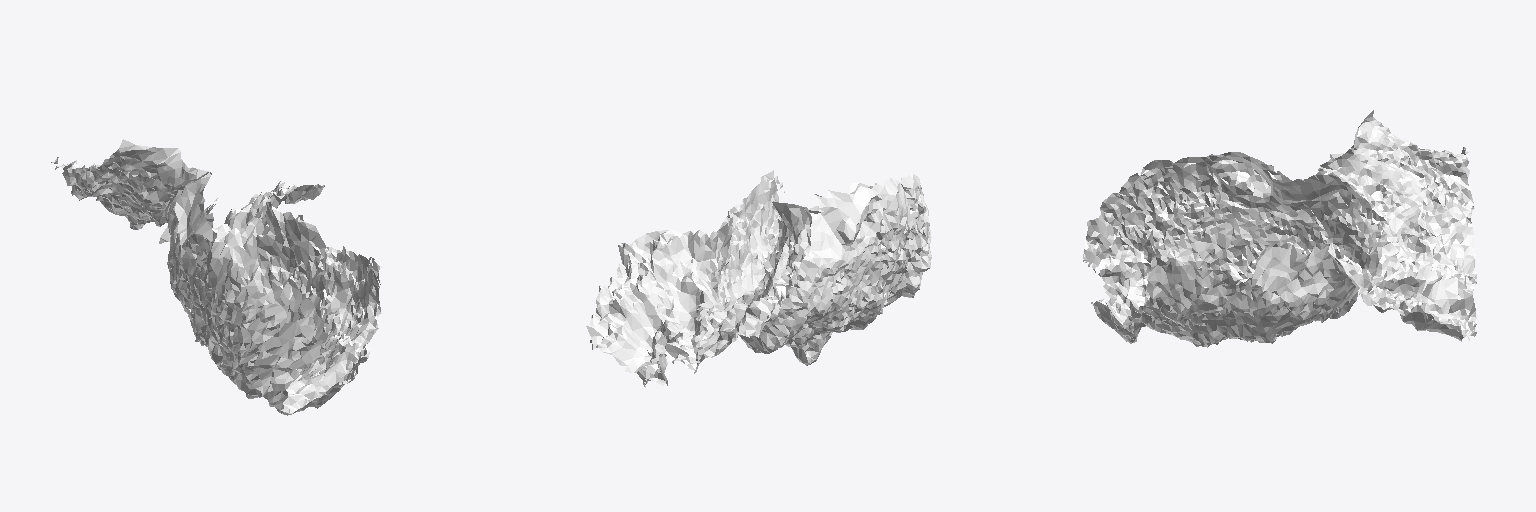
Rendered from Henry-smile.obj.
The picture shows the model from 3 angles: view 1: azimuth 30°, elevation 25°; view 2: azimuth 150°, elevation 25°; view 3: azimuth 270°, elevation 25°; orthographic projection.
Visible parts, largest first — view 1: default; view 2: default; view 3: default.
Part boxes in pixels (x1,y1,x2,y2): default: (51, 139, 381, 415); default: (586, 170, 931, 387); default: (1083, 110, 1477, 347).
Bounding box in the file's own units: 26.54 × 23.92 × 41.32.